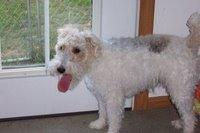wire-haired_fox_terrier: (46, 12, 199, 132)
